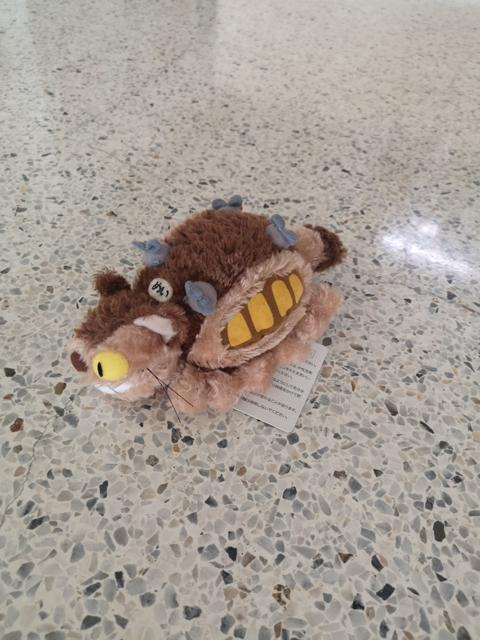nekobus: (64, 190, 354, 437)
